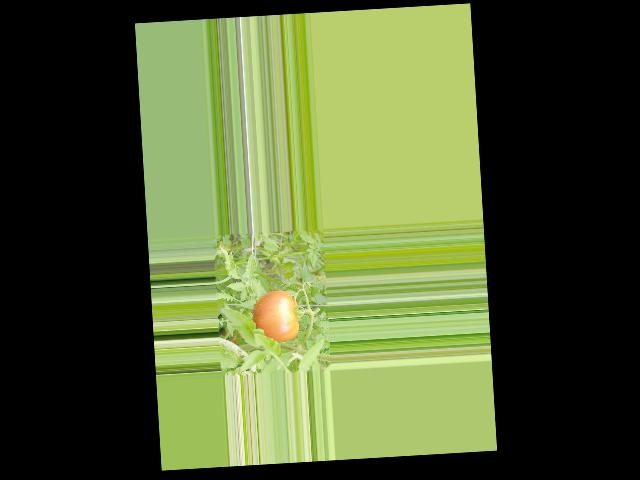tomato: (252, 289, 300, 342)
